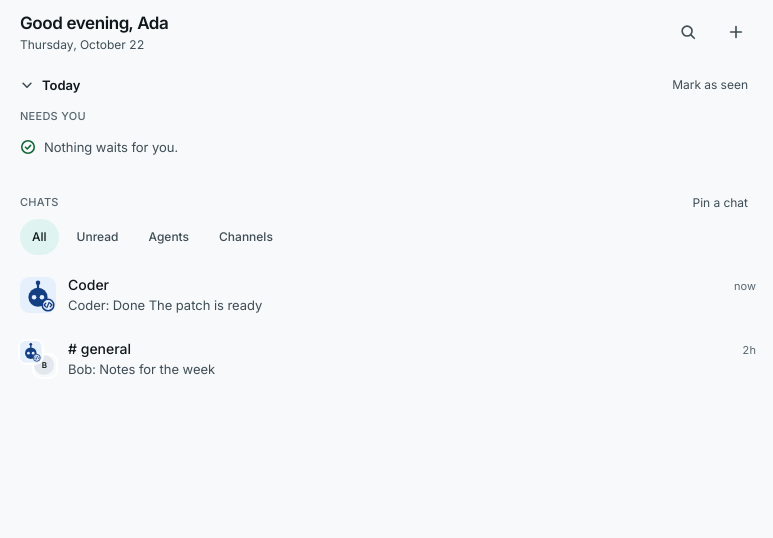
Test: InboxPage › filters by unread, agents and channels and says so when nothing matches
What coordinates should you click on to do the following:
click the button "Unread"
I would click on:
 (98, 237)
Its box is [65,219,130,255].
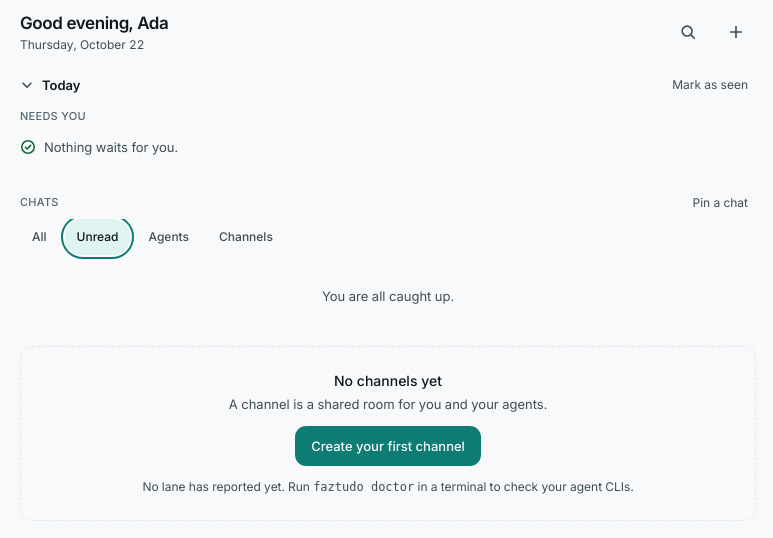
Check: no links are shown
Check: the text with test id "inbox-filter-empty" shows "all caught up", box [322,288,454,304]
What coordinates should you click on to do the following:
click the button "Agents"
I would click on:
 (169, 237)
Its box is [136,219,201,255].
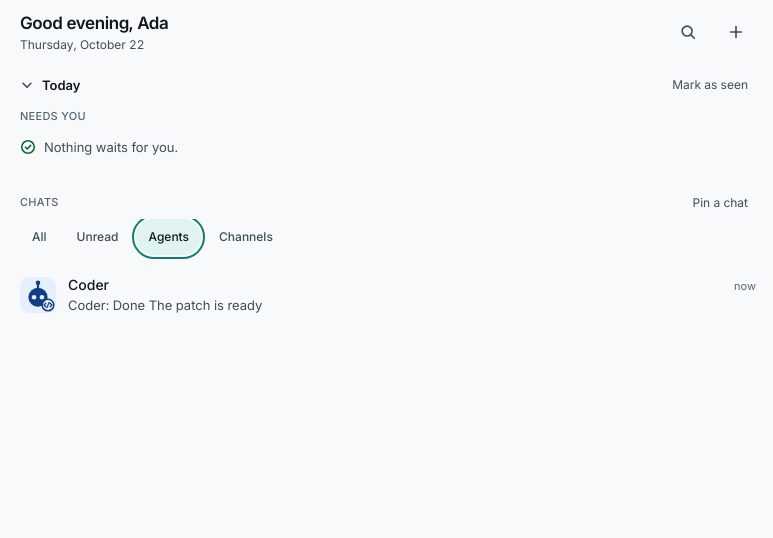
Check: the number of links is 1, box [20,276,756,313]
Check: the link shows "Coder", box [20,276,756,313]
What coordinates should you click on to do the following:
click the button "Channels"
I would click on:
 (246, 237)
Its box is [207,219,285,255].
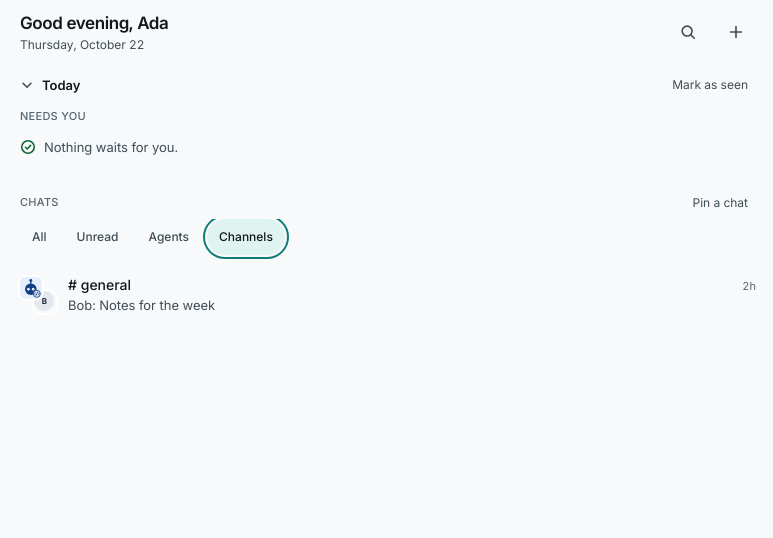
Check: the link shows "# general", box [20,276,756,313]
What coordinates should you click on to do the following:
click the button "All"
I would click on:
 (39, 237)
Its box is [20,219,59,255].
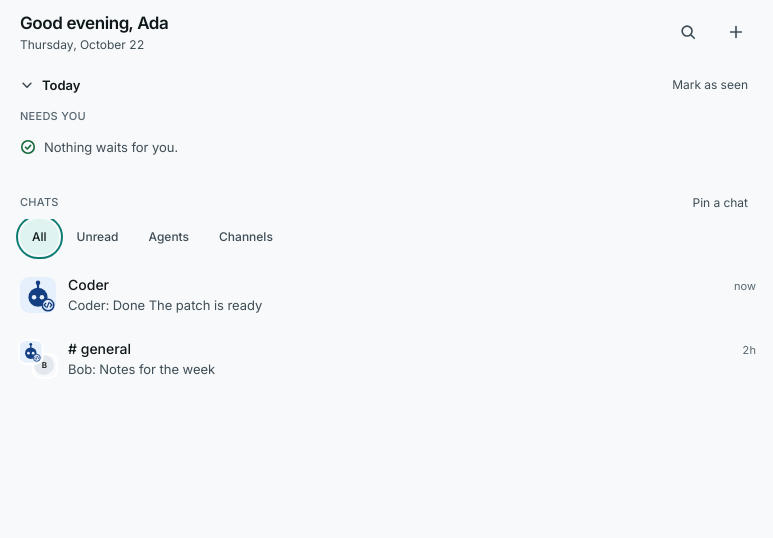
Check: the number of links is 2, box [20,276,756,313]; [20,340,756,377]
